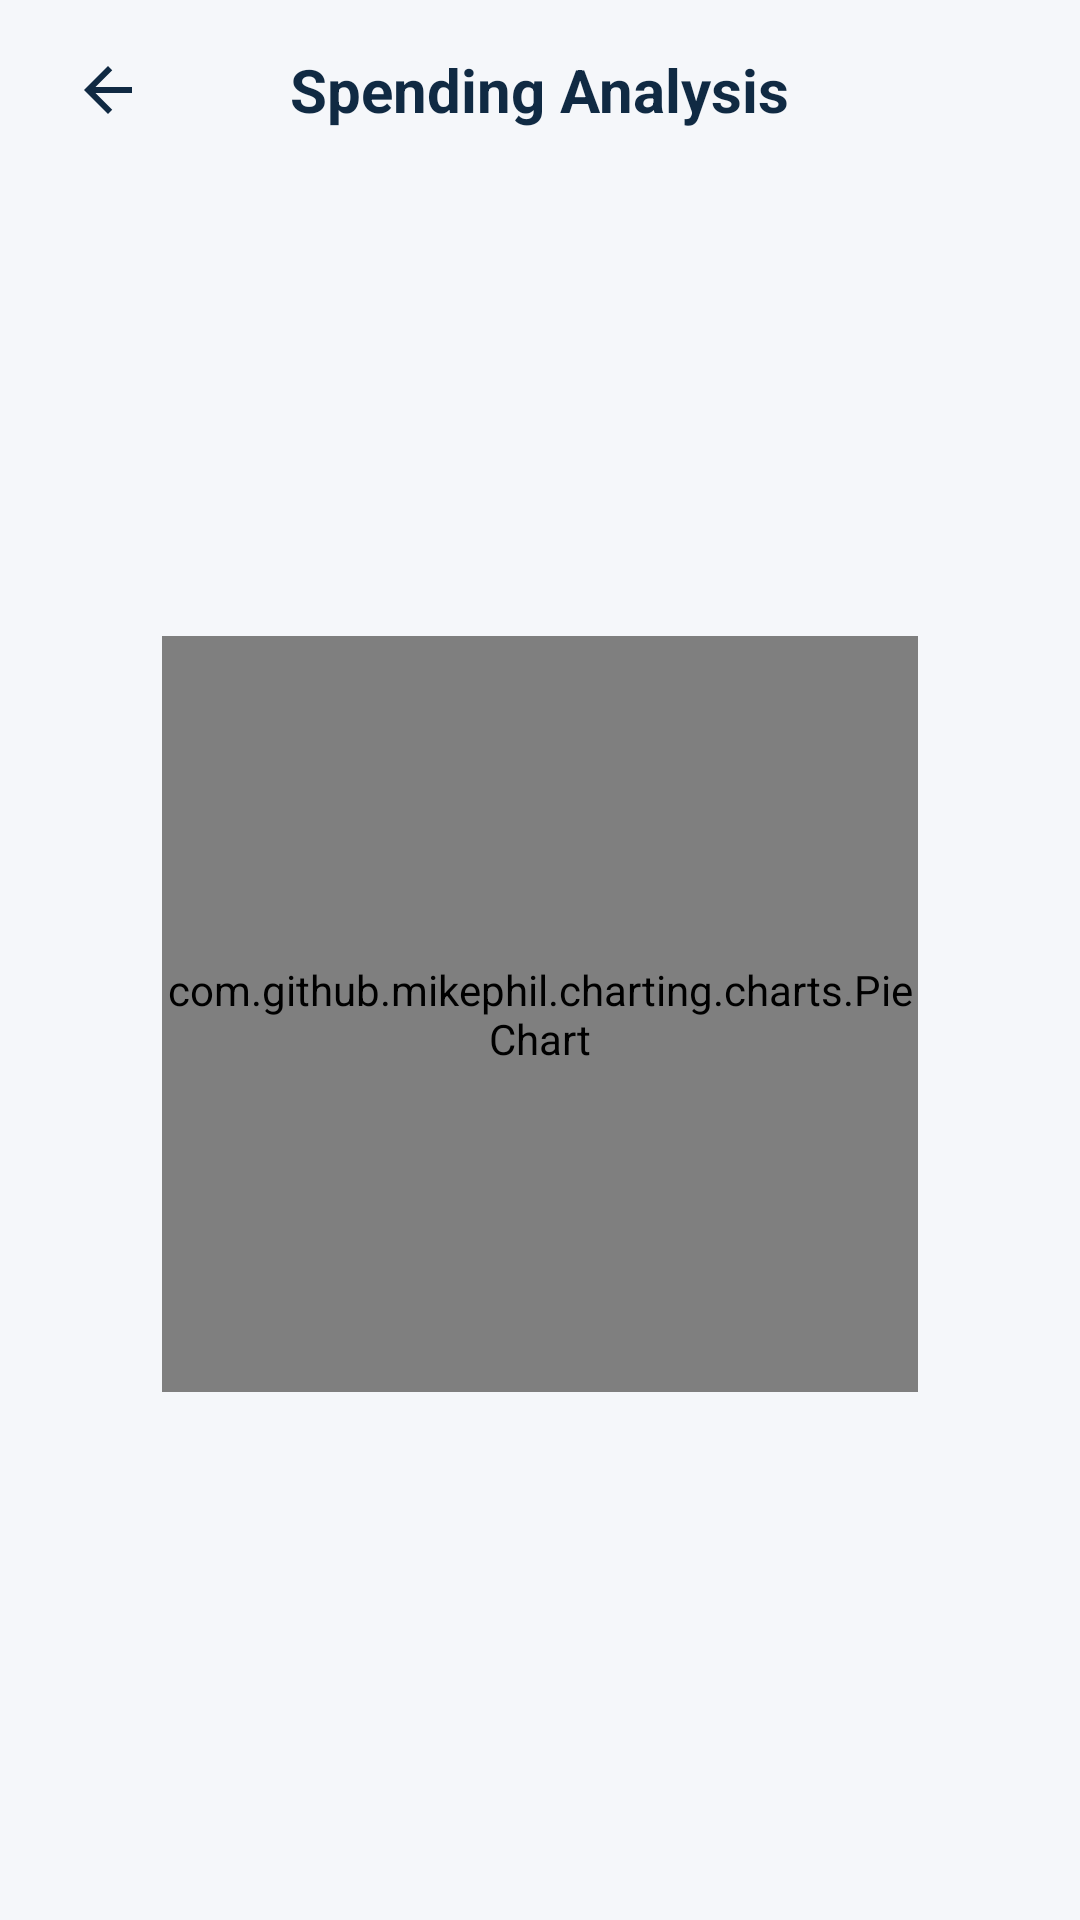

Icon bounding boxes for this 1080 × 1920 phone screenshot, format (x1=x1, y1=y1, x2=x2, y2=y2):
arrow back: (x1=84, y1=66, x2=132, y2=114)
